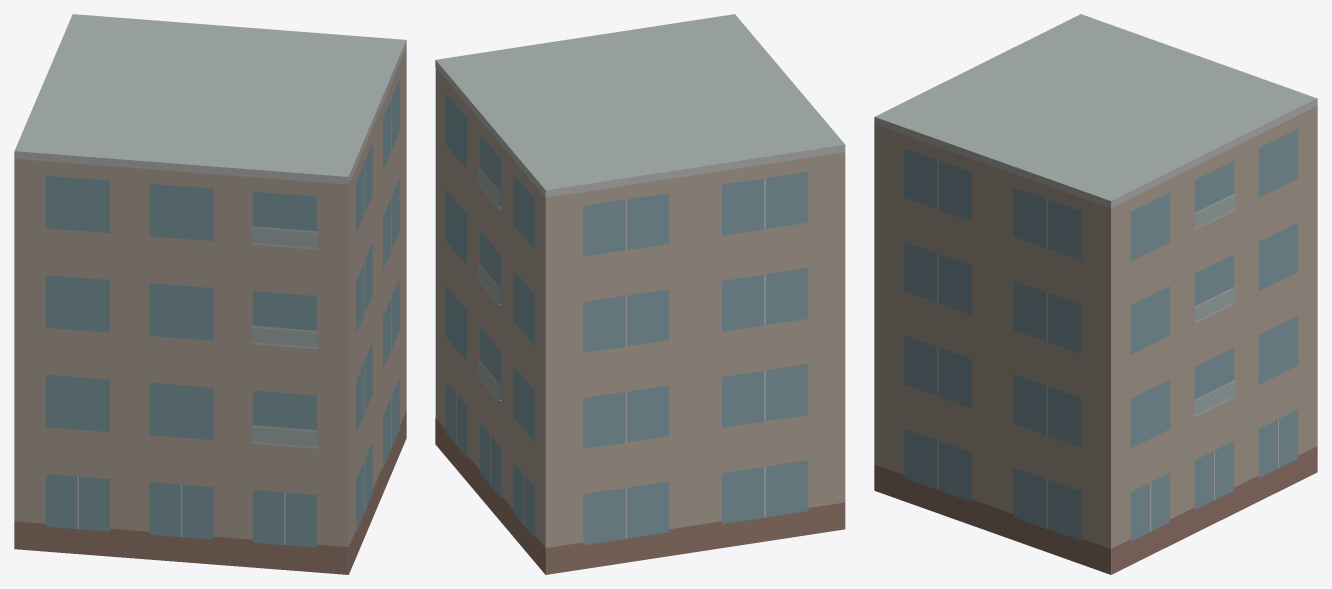
Rendered from survey-upis-32538767.glb.
3 renders of one model, left to right at view 1: azimuth 30°, elevation 25°; view 2: azimuth 150°, elevation 25°; view 3: azimuth 270°, elevation 25°, orthographic. The views are drawn at different scales.
Visible parts, largest first — view 1: survey-upis-32538767.tmp; view 2: survey-upis-32538767.tmp; view 3: survey-upis-32538767.tmp.
Boxes of the visible parts, x1,y1,x2,y2 form: survey-upis-32538767.tmp: (14,14,406,574); survey-upis-32538767.tmp: (435,14,845,574); survey-upis-32538767.tmp: (874,14,1317,574).
Bounding box in the file's own units: 13.53 × 12.6 × 13.55.
